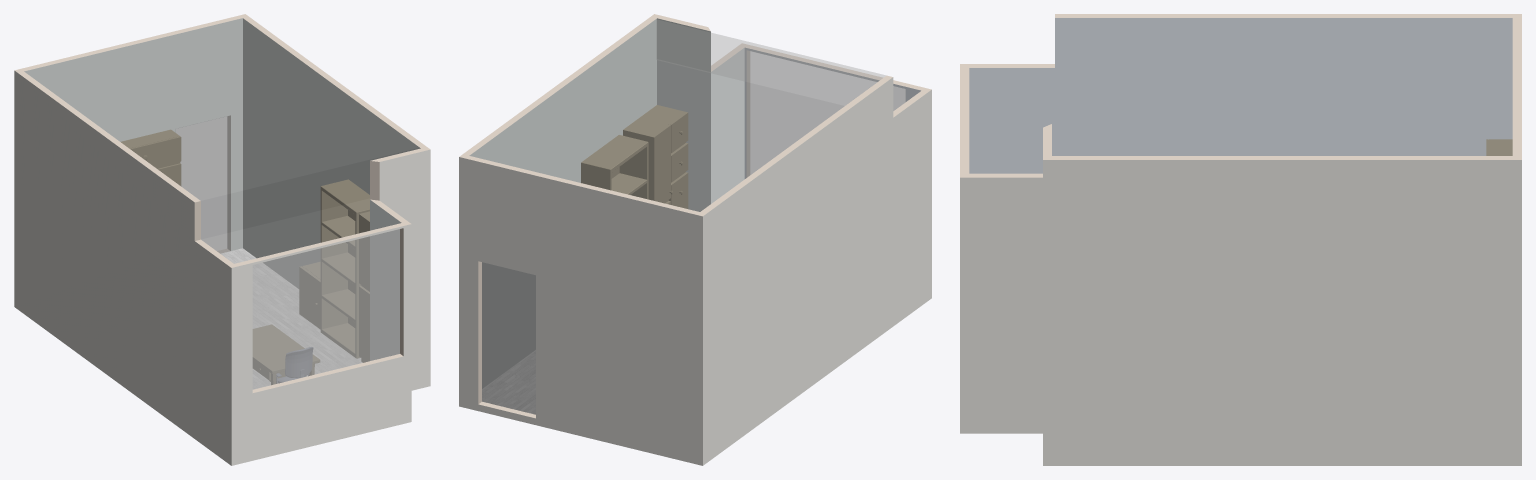
Rendered from Raum 357.fbx.
3 views of the same model, side by side, from view 1: azimuth 30°, elevation 25°; view 2: azimuth 150°, elevation 25°; view 3: azimuth 270°, elevation 25° (orthographic). The views are drawn at different scales.
Parts seen in each view (by area): view 1: wall_0 (×2), ceiling_Other_0 (×3), window_0 (×2), wall_1 (×2), wall_5 (×3), wall_2 (×3), door_0 (×2), wall_4, storage1, floor_Other_0, wall_3, table1 (+4 smaller); view 2: wall_0 (×2), wall_5 (×3), ceiling_Other_0 (×2), wall_1 (×2), door_0 (×2), window_0 (×2), wall_4, wall_3, storage3, storage1, floor_Other_0, wall_2 (×2); view 3: wall_1 (×2), wall_0 (×2), ceiling_Other_0 (×2), wall_3, wall_5, wall_2.
Part boxes in pixels (x1,y1,x2,y2): wall_0 (×2): [14, 70, 233, 465]; ceiling_Other_0 (×3): [25, 18, 418, 262]; window_0 (×2): [253, 229, 399, 389]; wall_1 (×2): [243, 14, 429, 288]; wall_5 (×3): [15, 14, 244, 253]; wall_2 (×3): [231, 223, 411, 465]; door_0 (×2): [176, 115, 230, 253]; wall_4: [379, 149, 430, 390]; storage1: [320, 179, 369, 358]; floor_Other_0: [220, 248, 362, 389]; wall_3: [370, 200, 401, 360]; table1: [253, 324, 319, 384]; wall_0 (×2): [700, 75, 931, 465]; wall_5 (×3): [459, 156, 702, 465]; ceiling_Other_0 (×2): [470, 20, 885, 211]; wall_1 (×2): [459, 14, 656, 388]; door_0 (×2): [482, 262, 535, 414]; window_0 (×2): [746, 51, 905, 177]; wall_4: [657, 18, 710, 211]; wall_3: [711, 48, 744, 203]; storage3: [623, 105, 688, 208]; storage1: [581, 135, 648, 199]; floor_Other_0: [482, 350, 535, 414]; wall_2 (×2): [742, 43, 931, 178]; wall_1 (×2): [1043, 156, 1521, 465]; wall_0 (×2): [961, 14, 1521, 173]; ceiling_Other_0 (×2): [970, 18, 1511, 172]; wall_3: [960, 177, 1042, 433]; wall_5: [1512, 14, 1521, 159]; wall_2: [960, 64, 969, 177].
Bounding box in the file's own units: 3.76 × 3.68 × 6.11.
26 materials, 1 textured.
